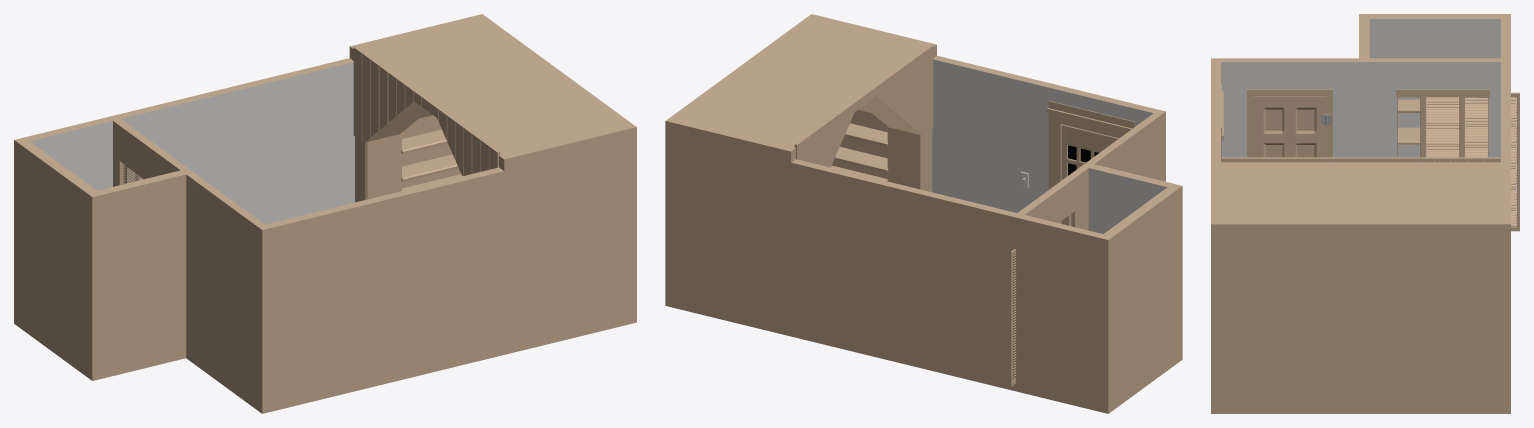
File: br_room.fbx
3 renders of one model, left to right at view 1: azimuth 30°, elevation 25°; view 2: azimuth 150°, elevation 25°; view 3: azimuth 270°, elevation 25°, orthographic. The views are drawn at different scales.
Parts seen in each view (by area): view 1: front2; view 2: front2; view 3: front2.
Part boxes in pixels (x1,y1,x2,y2): front2: [14, 14, 636, 413]; front2: [665, 14, 1182, 413]; front2: [1211, 14, 1519, 413].
Size of the model in its own units: 154 by 62.73 by 90.92.
